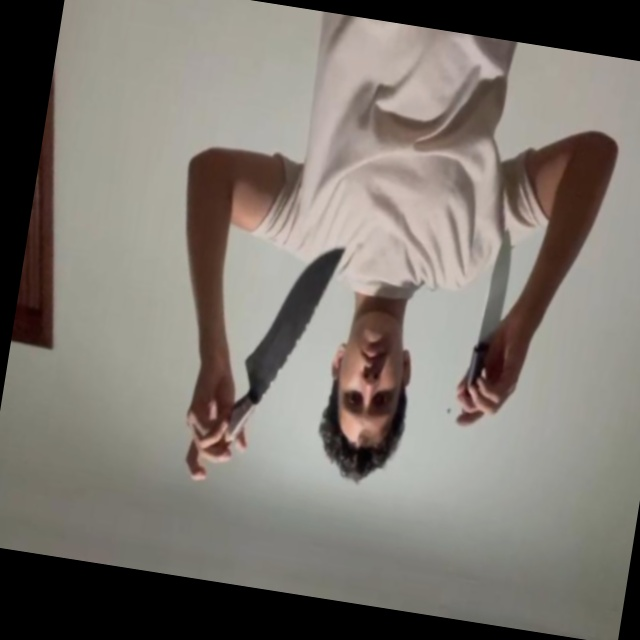Sharp-Object: (240, 233, 344, 406), (476, 223, 517, 353)
